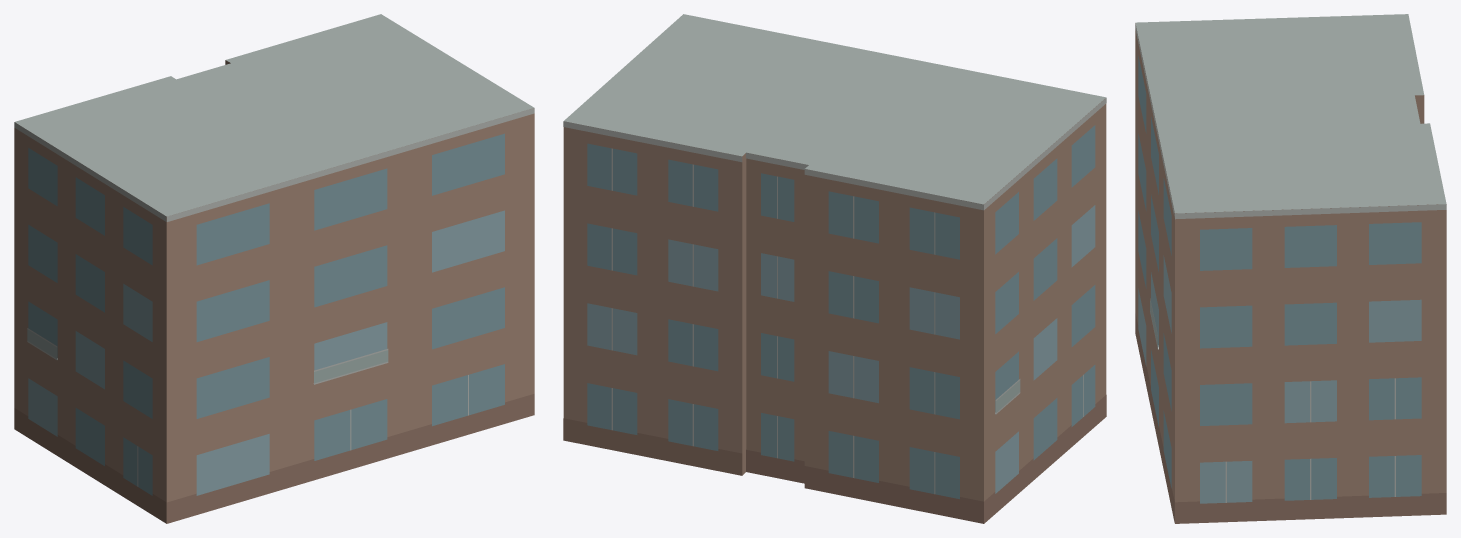
File: survey-upis-32616291.glb
3 renders of one model, left to right at view 1: azimuth 30°, elevation 25°; view 2: azimuth 150°, elevation 25°; view 3: azimuth 270°, elevation 25°, orthographic. The views are drawn at different scales.
Visible parts, largest first — view 1: survey-upis-32616291.tmp; view 2: survey-upis-32616291.tmp; view 3: survey-upis-32616291.tmp.
Boxes of the visible parts, x1=… form: survey-upis-32616291.tmp: x1=14, y1=14, x2=534, y2=523; survey-upis-32616291.tmp: x1=563, y1=14, x2=1106, y2=523; survey-upis-32616291.tmp: x1=1135, y1=14, x2=1446, y2=523.
Bounding box in the file's own units: 18.27 × 13.25 × 12.05.
